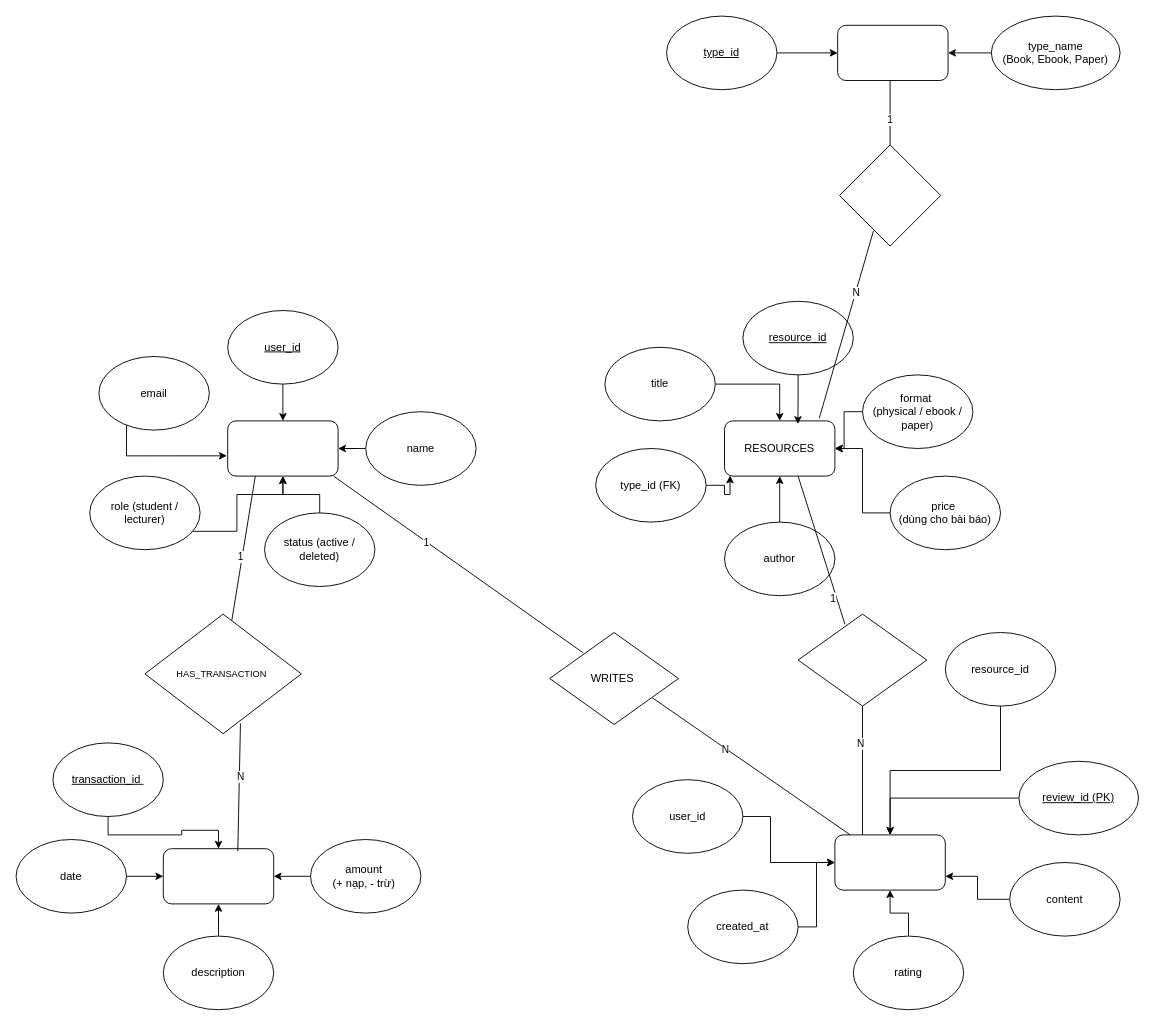
Some shapes in this 1155 by 1026 pixel diagram are drawn without their labels. Here are the shapes that lost their labels. From the top down, the box of each, then its label:
(837, 24, 948, 80): RESOURCE_TYPE
(839, 144, 941, 246): CLASSIFIES
(227, 420, 338, 476): USERS
(797, 613, 927, 706): HAS_REVIEW
(162, 848, 274, 904): WALLETS
(834, 834, 945, 890): REVIEWS
